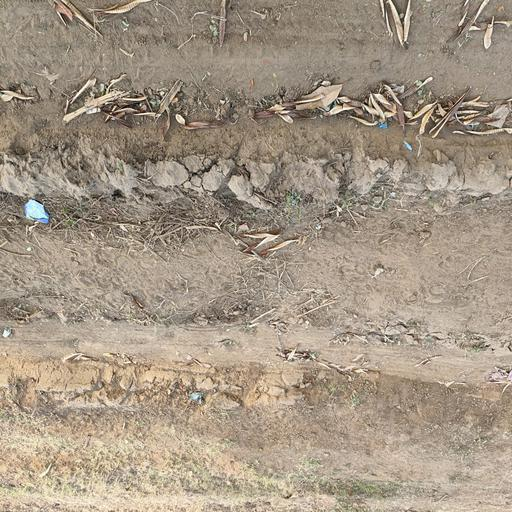vehicle_track: (0, 26, 512, 100), (0, 321, 512, 393)
